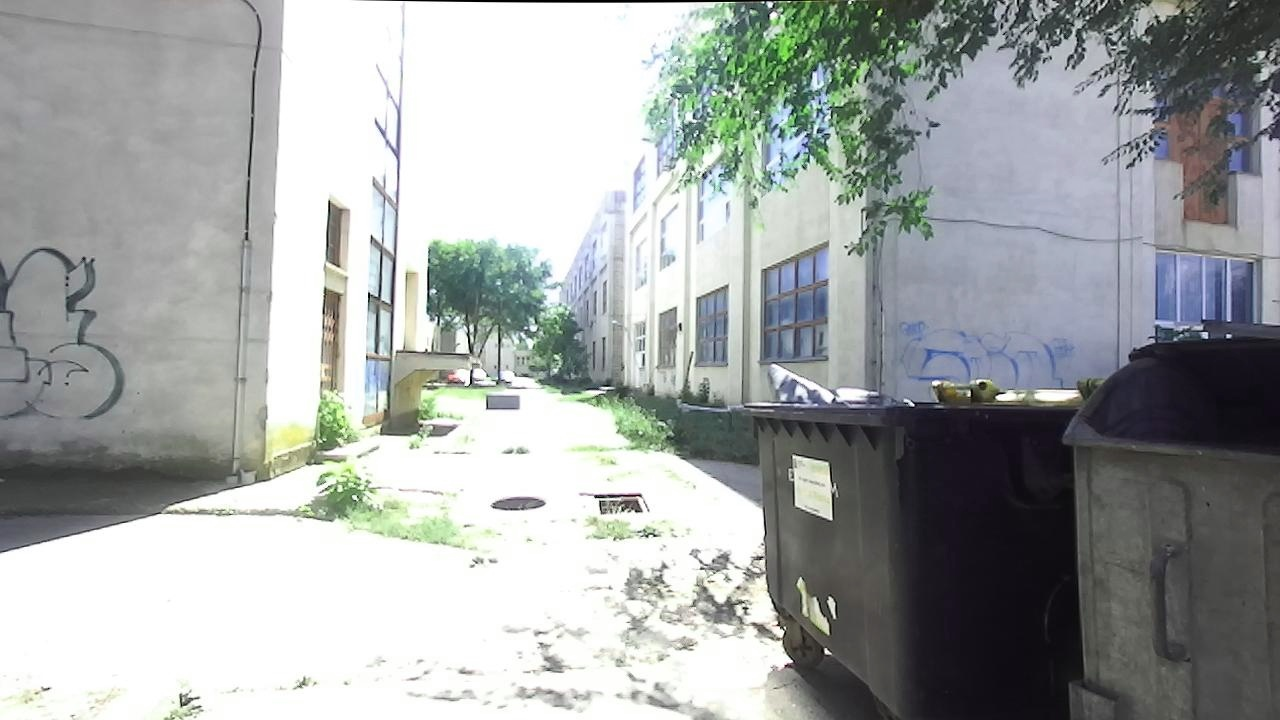drain: (590, 486, 650, 517), (488, 491, 550, 513)
